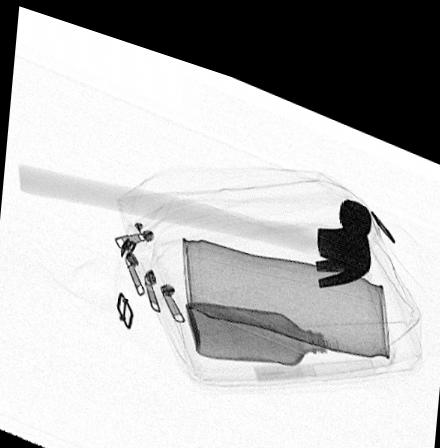Hammer: (18, 161, 371, 268)
